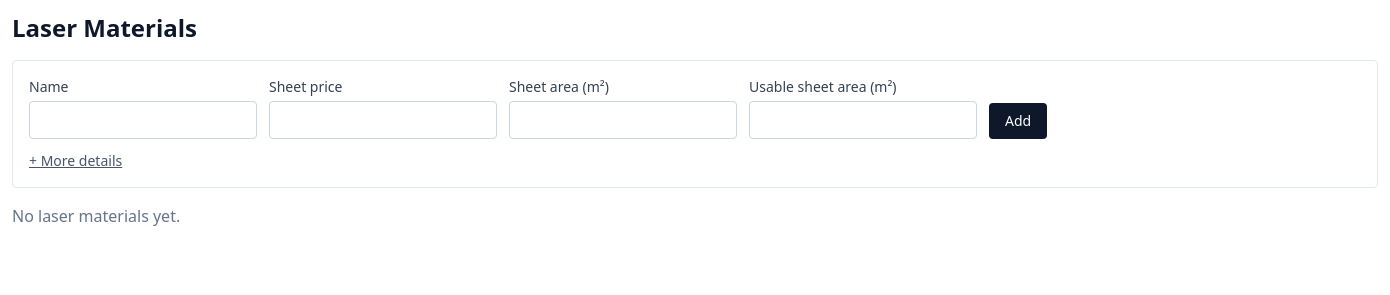
Test: LaserMaterialsListPage — inline add form › creates a laser material via the essentials-only form and shows the new row without a manual refetch
Expected: the text "No laser materials yet." is shown, [12,205,180,227]
In the field labelled "Name": (143, 120) [29,101,257,139], type "Acrylic 3mm"
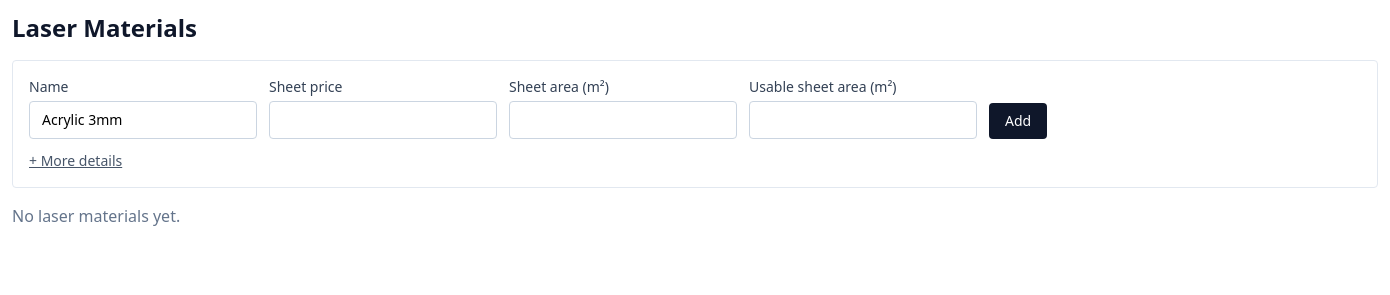
In the number field labelled "Sheet price": (383, 120) [269,101,497,139], type "500"
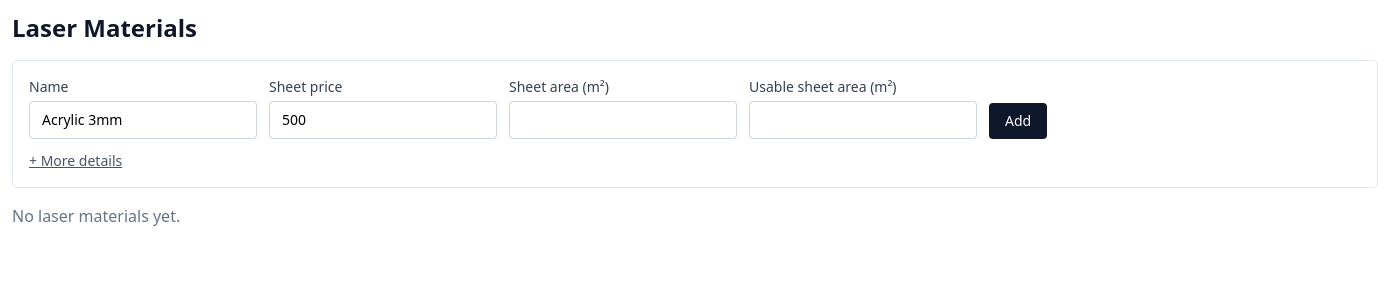
In the number field labelled "Sheet area (m²)": (623, 120) [509,101,737,139], type "2.88"
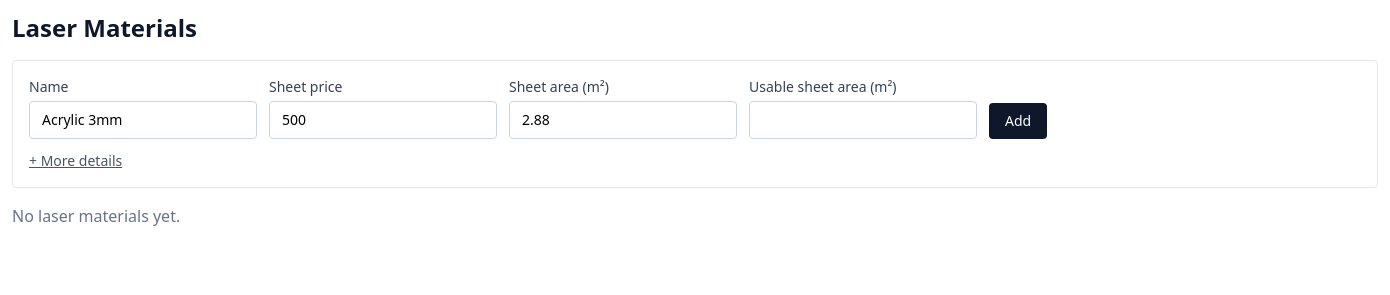
In the number field labelled "Usable sheet area (m²)": (863, 120) [749,101,977,139], type "2"
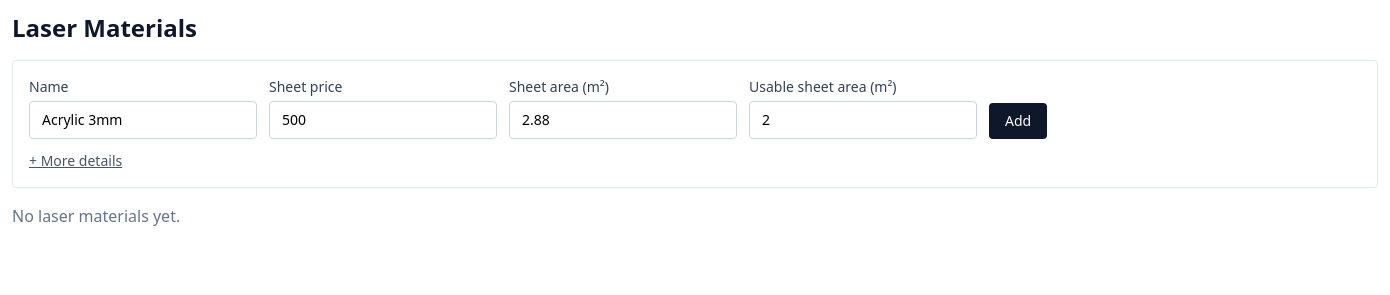
Click the button "Add": (1018, 121) [989,103,1047,139]
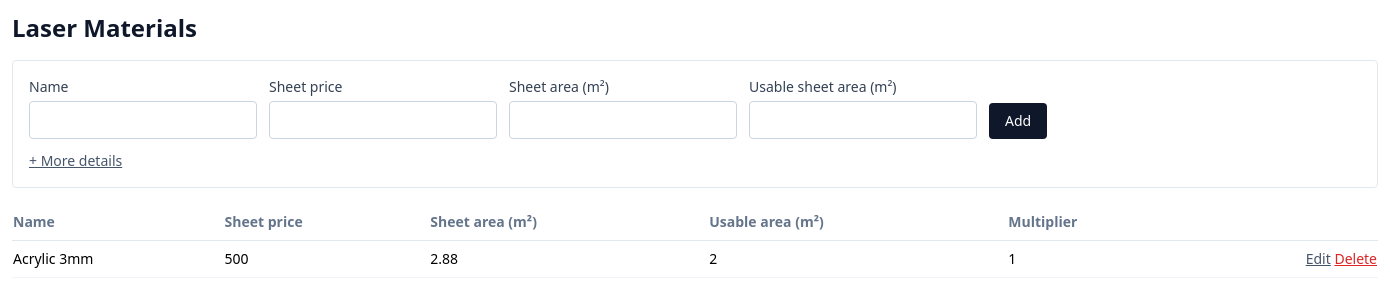
Expected: the text "Acrylic 3mm" is shown, [12,240,224,278]
